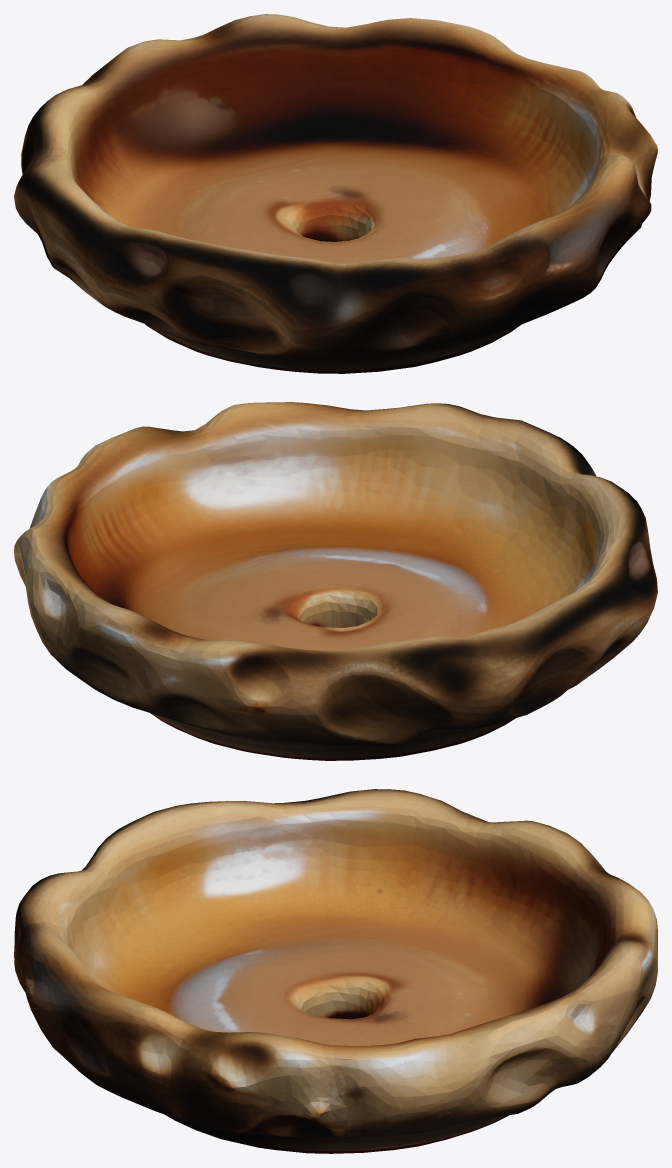
The model's file is handmade-clay-soap-holder-vintage.jpeg.glb.
3 views of the same model, one above another, from view 1: azimuth 30°, elevation 25°; view 2: azimuth 150°, elevation 25°; view 3: azimuth 270°, elevation 25° (orthographic).
Parts seen in each view (by area): view 1: world; view 2: world; view 3: world.
Boxes of the visible parts, bbox=[...] form: world: bbox=[14, 14, 657, 373]; world: bbox=[14, 402, 657, 760]; world: bbox=[14, 789, 657, 1153].
Size of the model in its own units: 0.9983 by 0.269 by 0.9992.
Materials: 1 (1 with a texture image).
